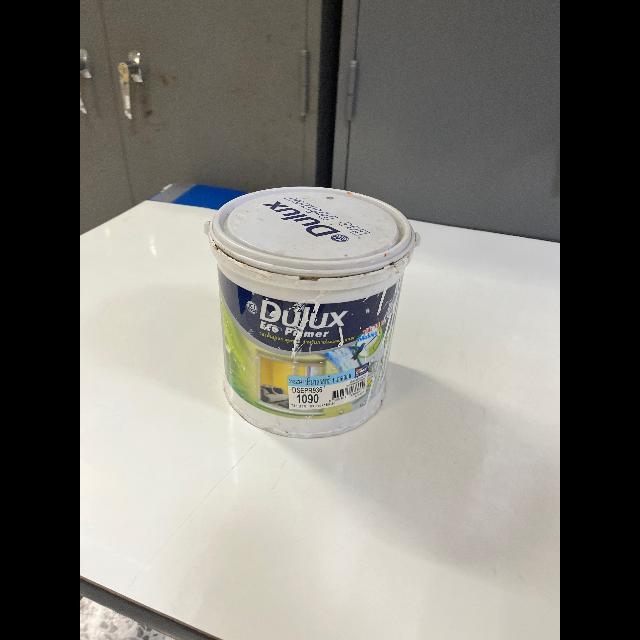paint_bucket: (202, 181, 420, 437)
